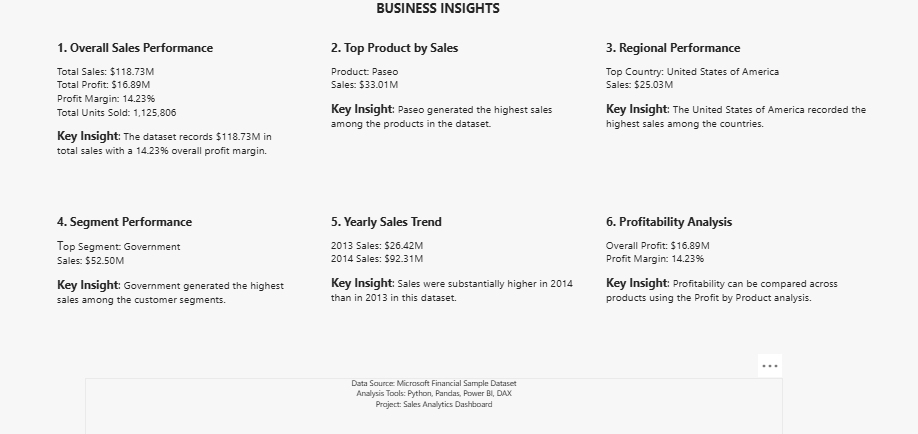

The dashboard page shown, as its layout file describes it:
{"tool":"powerbi","page":{"name":"Business Insights","canvas":[1920,1080],"ordinal":1},"visuals":[{"type":"textbox","box":[10.3,0,1804.4,109.4],"z":0},{"type":"textbox","box":[125.9,82.6,472.8,303.5],"z":1},{"type":"textbox","box":[691.6,82.6,503.7,303.5],"z":2},{"type":"textbox","box":[1259.4,82.6,555.4,328.3],"z":3},{"type":"textbox","box":[125.9,441.8,472.8,251.9],"z":4},{"type":"textbox","box":[691.6,441.8,503.7,326.2],"z":5},{"type":"textbox","box":[1259.4,441.8,555.4,307.6],"z":6},{"type":"textbox","box":[183.7,782.5,1441,128],"z":7}]}

Visuals, with their boxes on the page's 1920x1080 design canvas (x1, y1, x2, y2). These are canvas units, not pixel positions in the 918x434 screenshot, which may show the page scaled, cropped or inside an application window:
textbox: BBox(10, 0, 1815, 109)
textbox: BBox(126, 83, 599, 386)
textbox: BBox(692, 83, 1195, 386)
textbox: BBox(1259, 83, 1815, 411)
textbox: BBox(126, 442, 599, 694)
textbox: BBox(692, 442, 1195, 768)
textbox: BBox(1259, 442, 1815, 749)
textbox: BBox(184, 782, 1625, 910)
